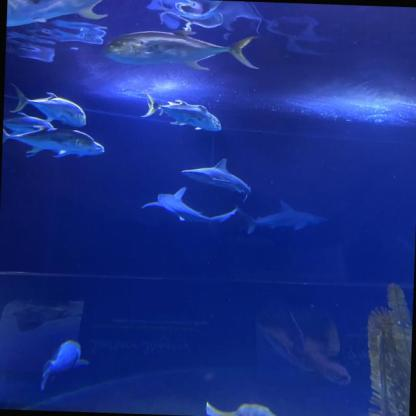fish: (2, 116, 96, 156), (8, 85, 91, 126), (34, 336, 96, 390), (163, 100, 229, 136), (138, 96, 212, 127), (37, 133, 111, 160), (2, 110, 60, 134)
shark: (135, 186, 237, 227), (178, 152, 258, 197), (240, 197, 331, 233)
